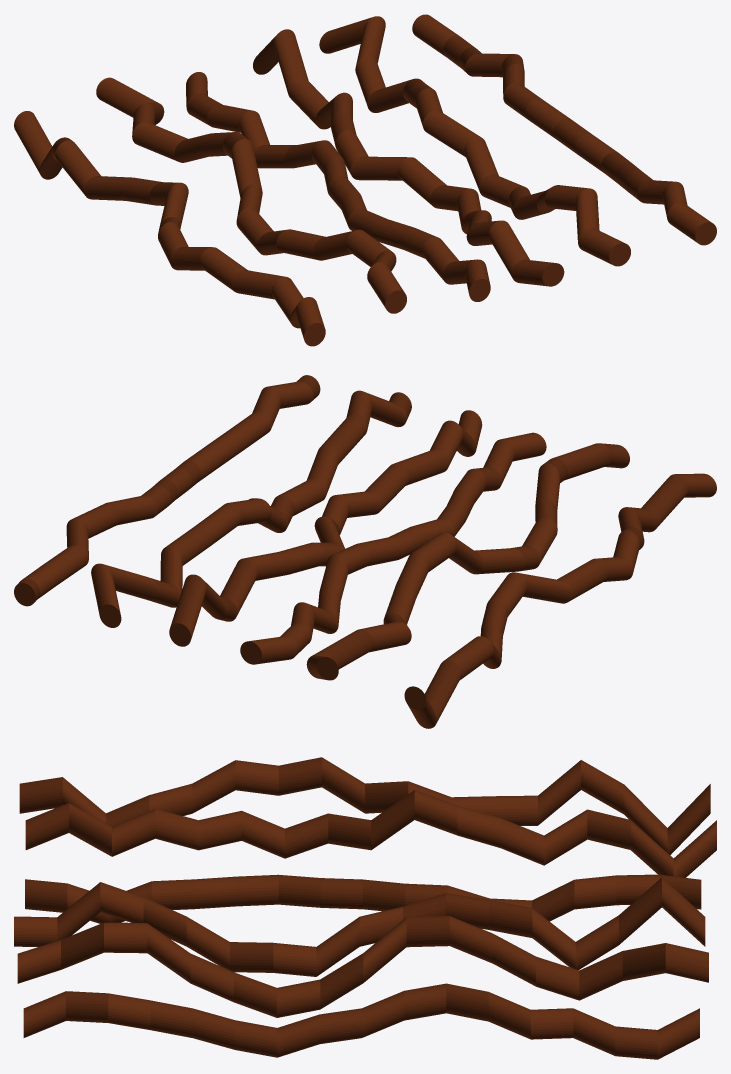
Rendered from Roots High.fbx.
The picture shows the model from 3 angles, top to bottom: view 1: azimuth 30°, elevation 25°; view 2: azimuth 150°, elevation 25°; view 3: azimuth 270°, elevation 25°; orthographic projection. The views are drawn at different scales.
Visible parts, largest first — view 1: Roots.014; view 2: Roots.014; view 3: Roots.014.
Part boxes in pixels (x1,y1,x2,y2): Roots.014: (14,14,716,346); Roots.014: (14,375,716,728); Roots.014: (14,757,716,1059).
Size of the model in its own units: 907 by 183 by 1008.
